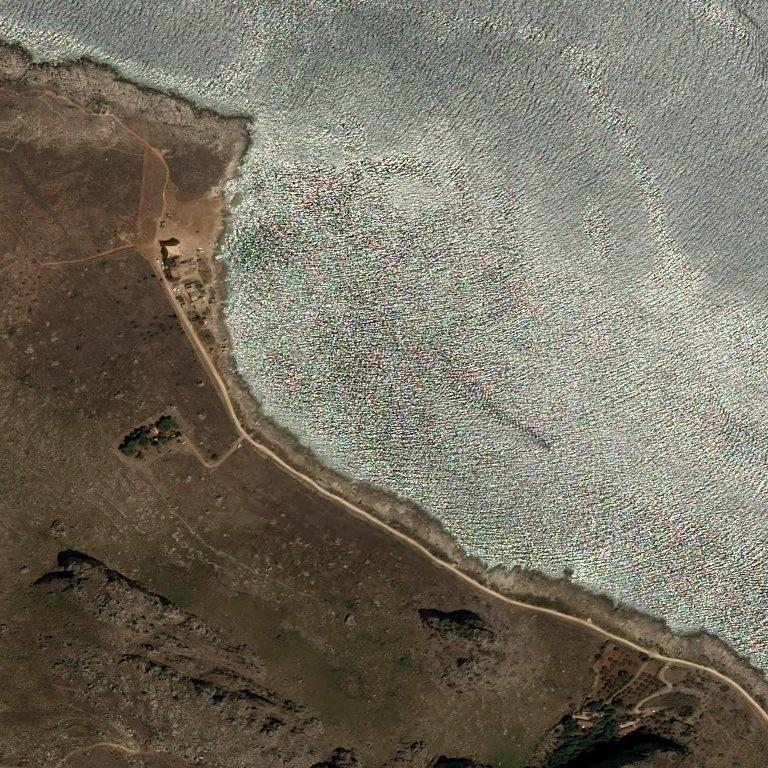ship: (549, 61, 558, 69)
